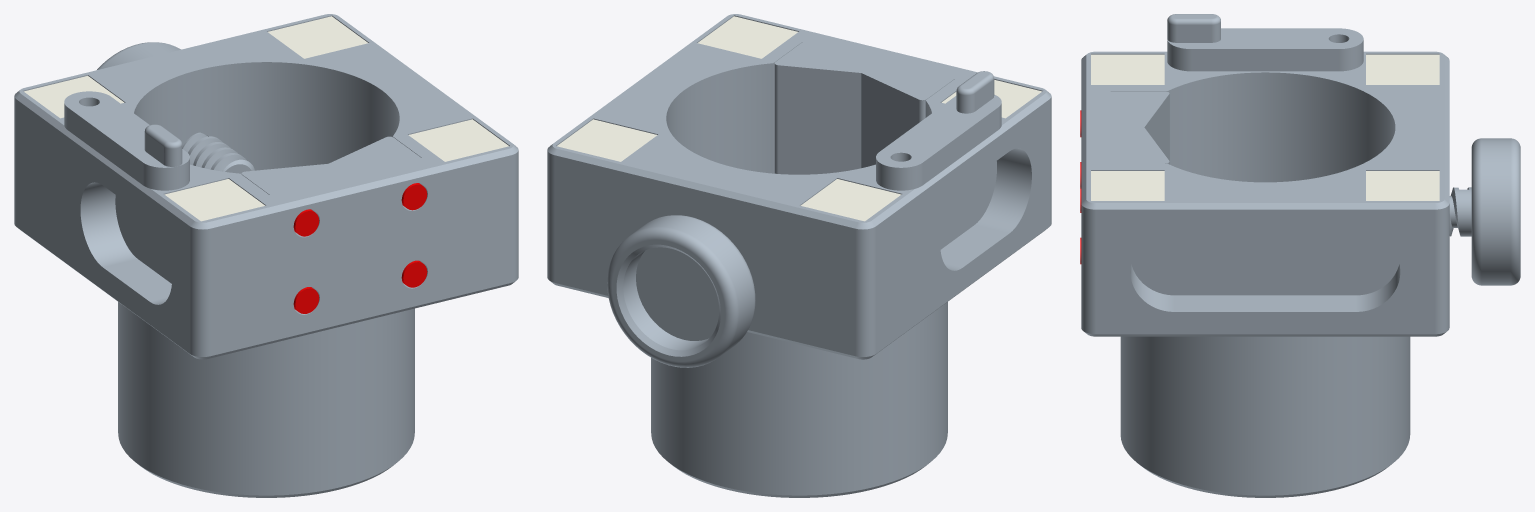
Rendered from c919-jig2-assy-2.obj.
The picture shows the model from 3 angles, left to right: view 1: azimuth 30°, elevation 25°; view 2: azimuth 150°, elevation 25°; view 3: azimuth 270°, elevation 25°; orthographic projection. The views are drawn at different scales.
Parts seen in each view (by area): view 1: 1, 3, 2, 10, 9, 11, 14; view 2: 1, 3, 11, 9, 2, 10; view 3: 1, 3, 10, 2, 11, 9.
Part boxes in pixels (left/top/right/bottom): 1: left=14, top=14, right=518, bottom=497; 3: left=14, top=97, right=518, bottom=495; 2: left=24, top=16, right=508, bottom=221; 10: left=64, top=91, right=189, bottom=190; 9: left=241, top=136, right=420, bottom=194; 11: left=97, top=42, right=254, bottom=174; 14: left=293, top=209, right=319, bottom=236; 1: left=547, top=14, right=1051, bottom=497; 3: left=547, top=97, right=1051, bottom=495; 11: left=607, top=215, right=755, bottom=367; 9: left=774, top=42, right=954, bottom=174; 2: left=557, top=16, right=1041, bottom=221; 10: left=876, top=71, right=1001, bottom=190; 1: left=1081, top=51, right=1449, bottom=497; 3: left=1081, top=205, right=1449, bottom=495; 10: left=1167, top=14, right=1363, bottom=71; 2: left=1091, top=54, right=1439, bottom=200; 11: left=1449, top=138, right=1520, bottom=285; 9: left=1110, top=91, right=1169, bottom=164.
Bounding box in the file's own units: 75 × 80 × 89.7.
